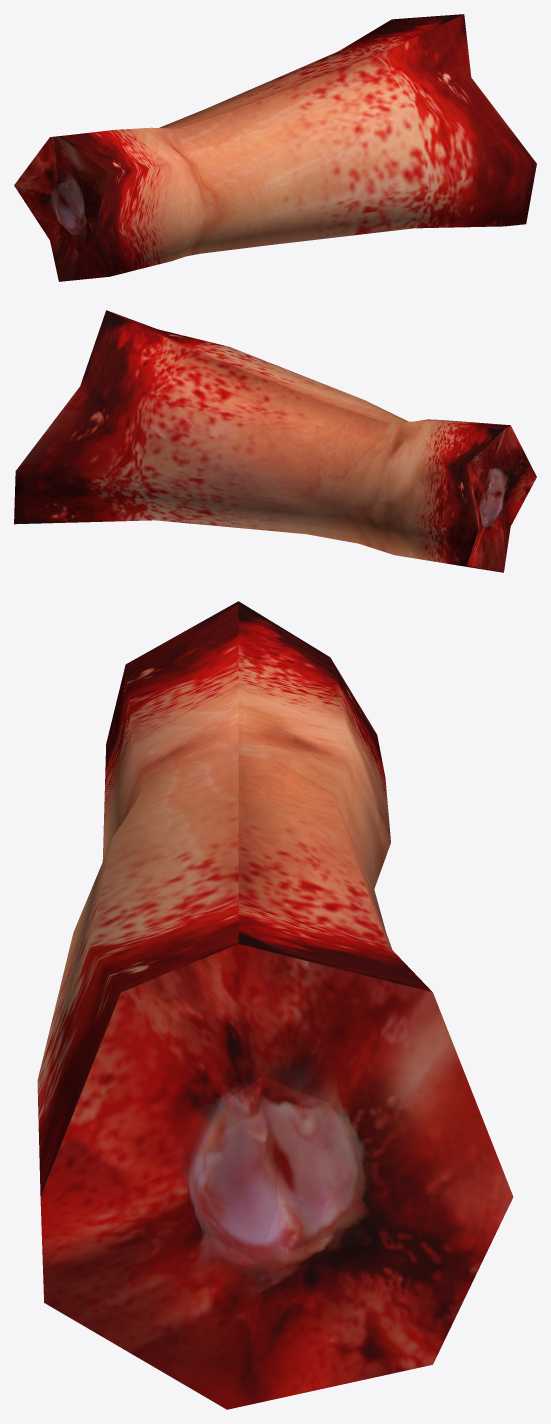
File: male_rt_uparm.fbx
3 renders of one model, top to bottom at view 1: azimuth 30°, elevation 25°; view 2: azimuth 150°, elevation 25°; view 3: azimuth 270°, elevation 25°, orthographic. The views are drawn at different scales.
Visible parts, largest first — view 1: rt_uparm_gib; view 2: rt_uparm_gib; view 3: rt_uparm_gib.
Boxes of the visible parts, <box> form: rt_uparm_gib: <box>14,14,536,281</box>; rt_uparm_gib: <box>14,310,536,572</box>; rt_uparm_gib: <box>37,601,513,1409</box>.
Size of the model in its own units: 0.385 by 0.1756 by 0.1761.
